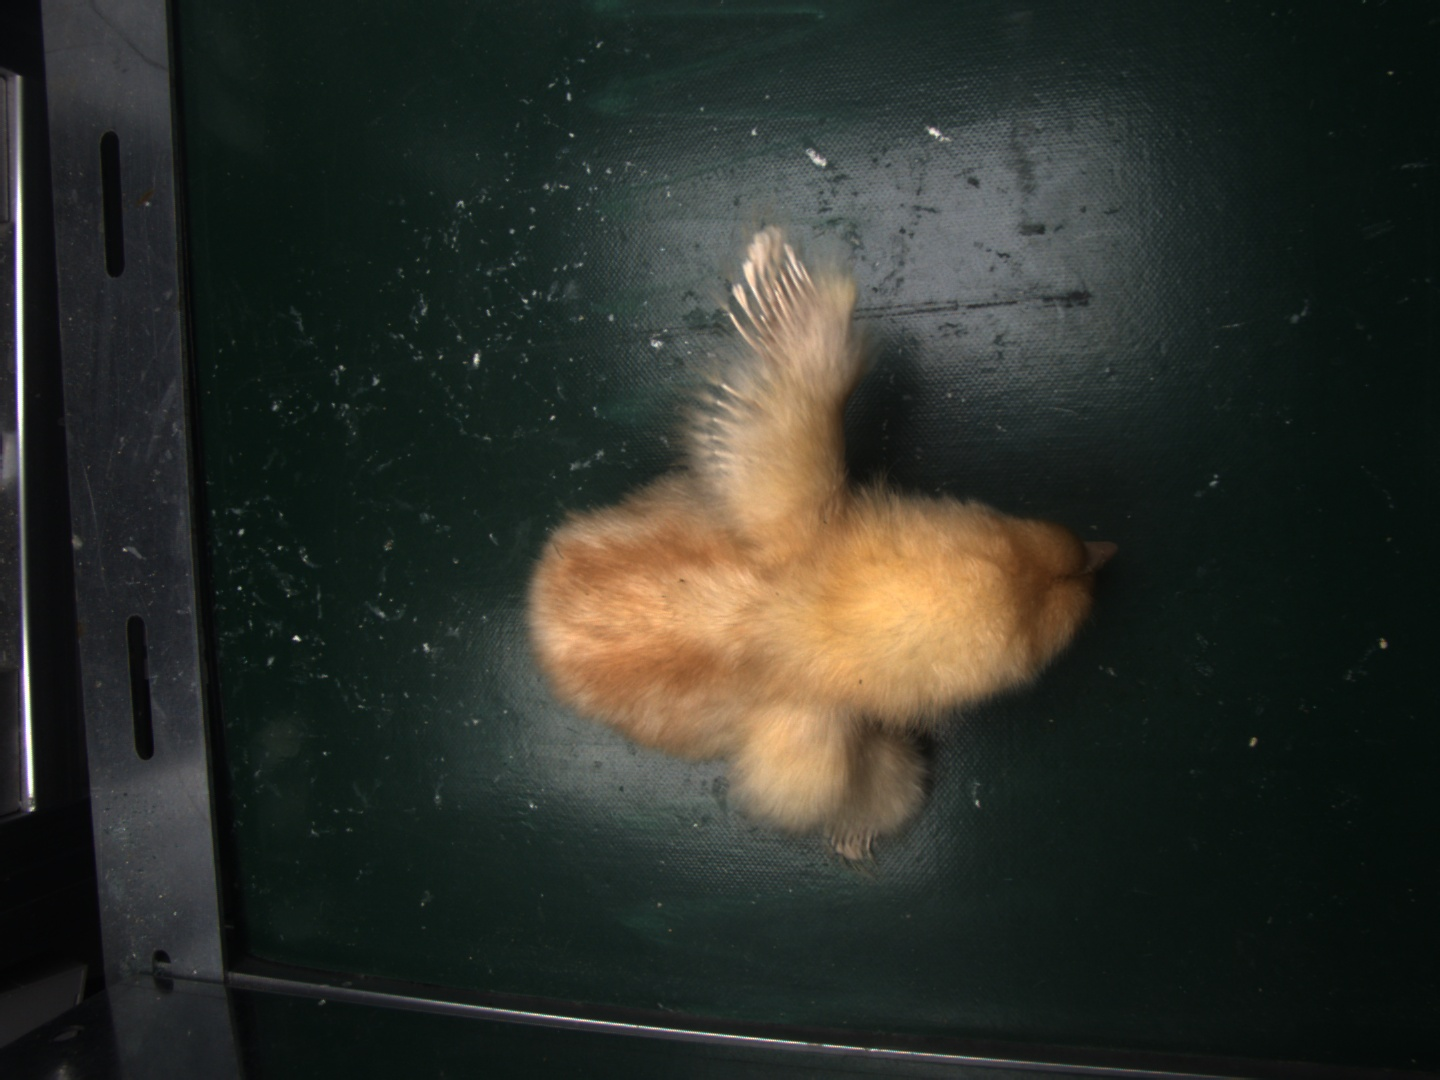female: (720, 227, 818, 344)
